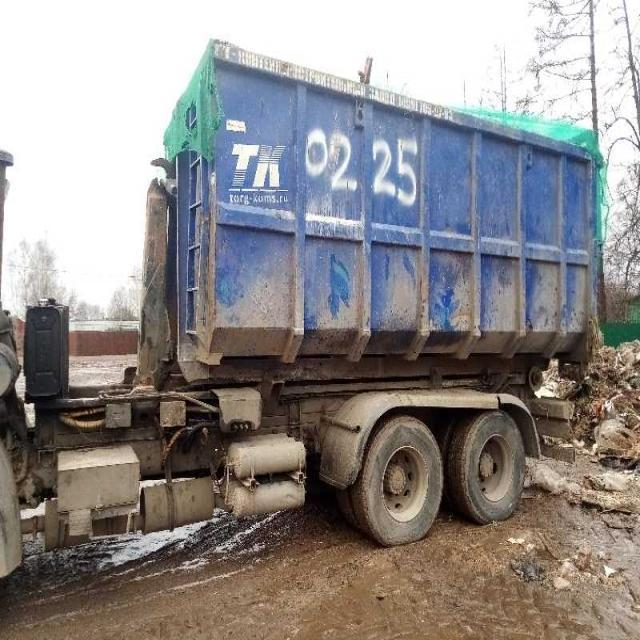Dumpster: (164, 39, 598, 363)
